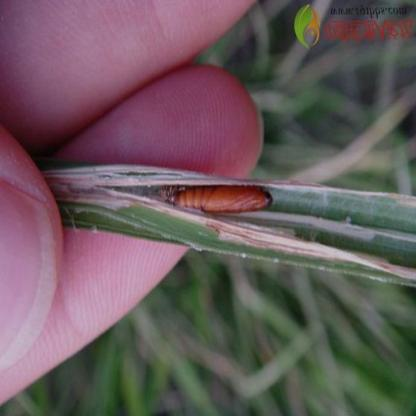leaf-folder: (178, 172, 278, 230)
